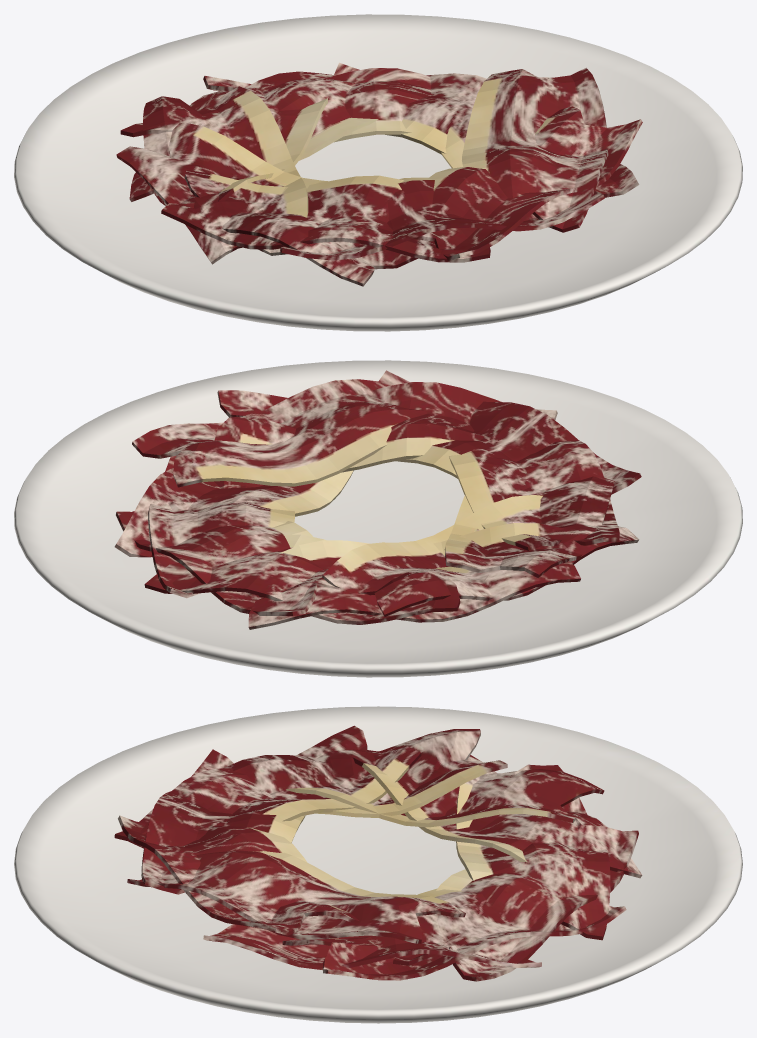
The model's file is plato_jamon.glb.
3 renders of one model, top to bottom at view 1: azimuth 30°, elevation 25°; view 2: azimuth 150°, elevation 25°; view 3: azimuth 270°, elevation 25°, orthographic.
Parts seen in each view (by area): view 1: plato_jamon; view 2: plato_jamon; view 3: plato_jamon.
Part boxes in pixels (x1,y1,x2,y2): plato_jamon: (14, 14, 742, 331); plato_jamon: (14, 360, 742, 677); plato_jamon: (14, 706, 742, 1023).
Size of the model in its own units: 0.28 by 0.0362 by 0.28.
1 material, 1 textured.
